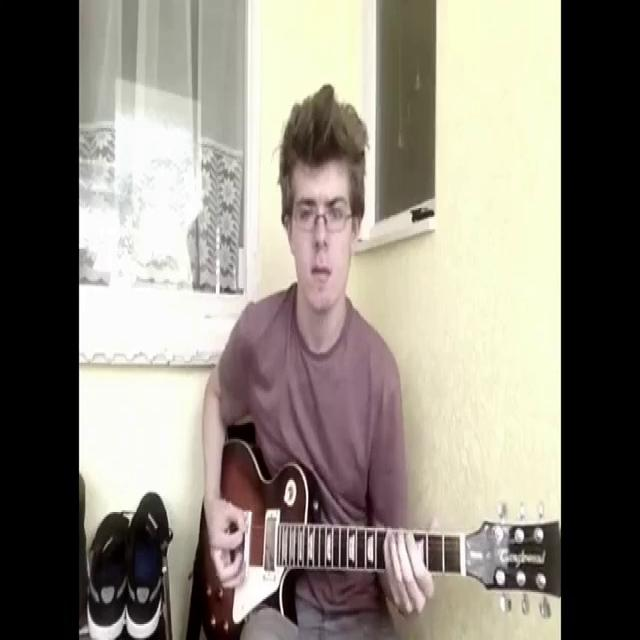Guitar: (191, 434, 561, 633)
